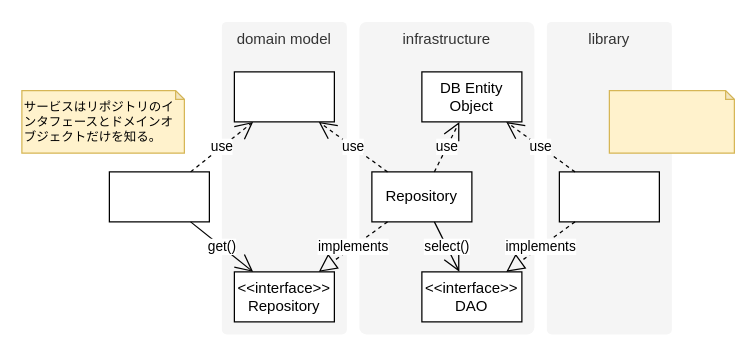
This 756x355 diagram has some shape labels left out. Each missing label, with the centre of its shape:
DAO: the point at 608,196
DAOの実装はJPAやMyBatis、Domaなどが引き受ける。: the point at 671,121
Domain Object: the point at 283,96
Service: the point at 158,196
